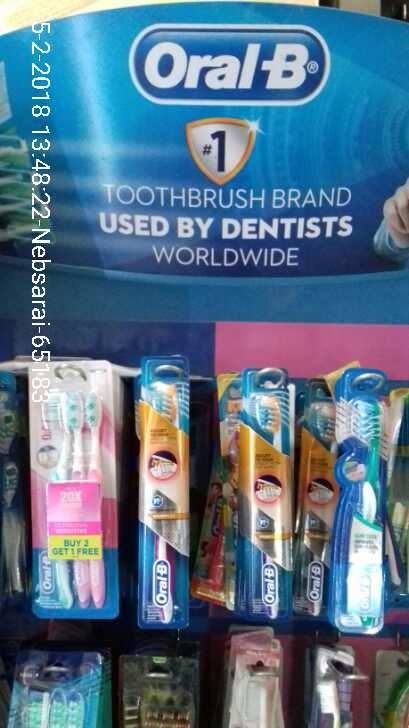oralb: (22, 386, 113, 608), (332, 395, 387, 639), (135, 376, 185, 621), (238, 402, 293, 615)
